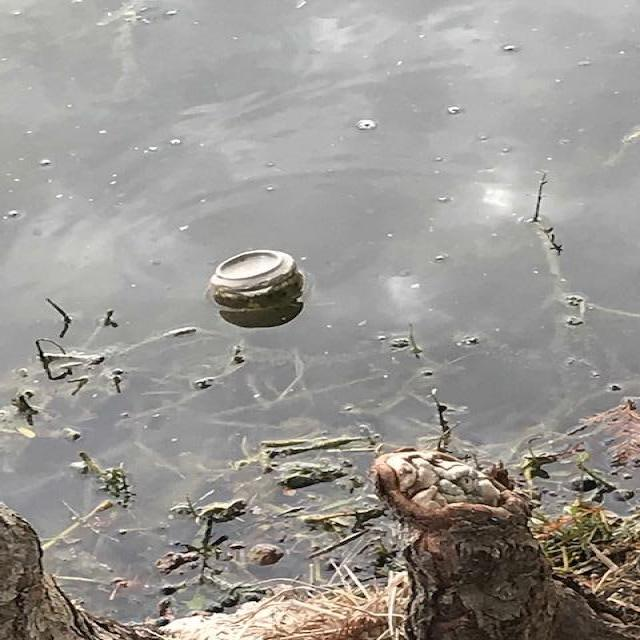litter: (209, 249, 304, 311)
